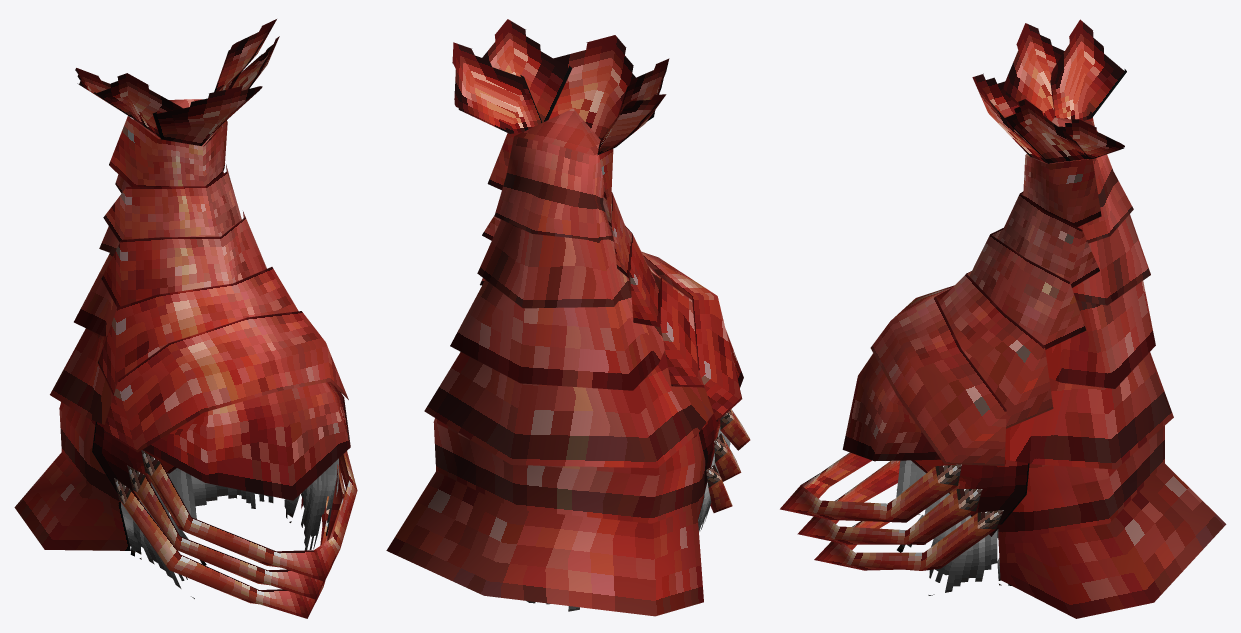
Rendered from f_hair218.glb.
The picture shows the model from 3 angles, left to right: view 1: azimuth 30°, elevation 25°; view 2: azimuth 150°, elevation 25°; view 3: azimuth 270°, elevation 25°; orthographic projection. The views are drawn at different scales.
Bounding box in the file's own units: 24.81 × 44.95 × 35.02.
1 material, 1 textured.
